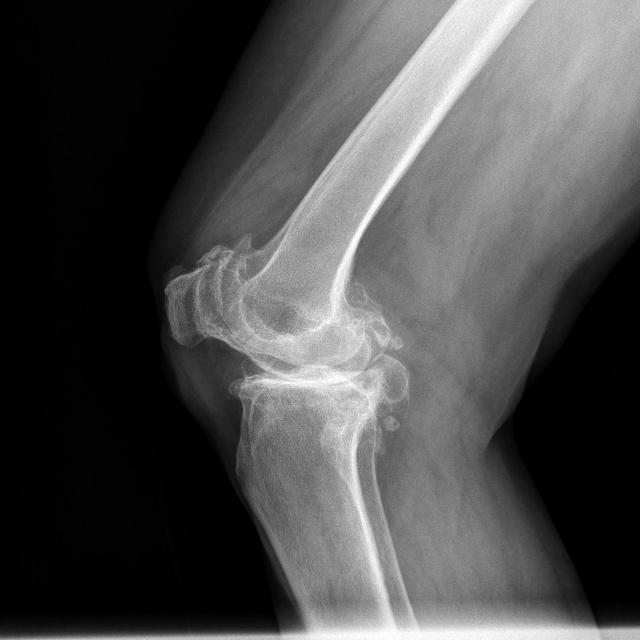Knee: (165, 232, 408, 469)
